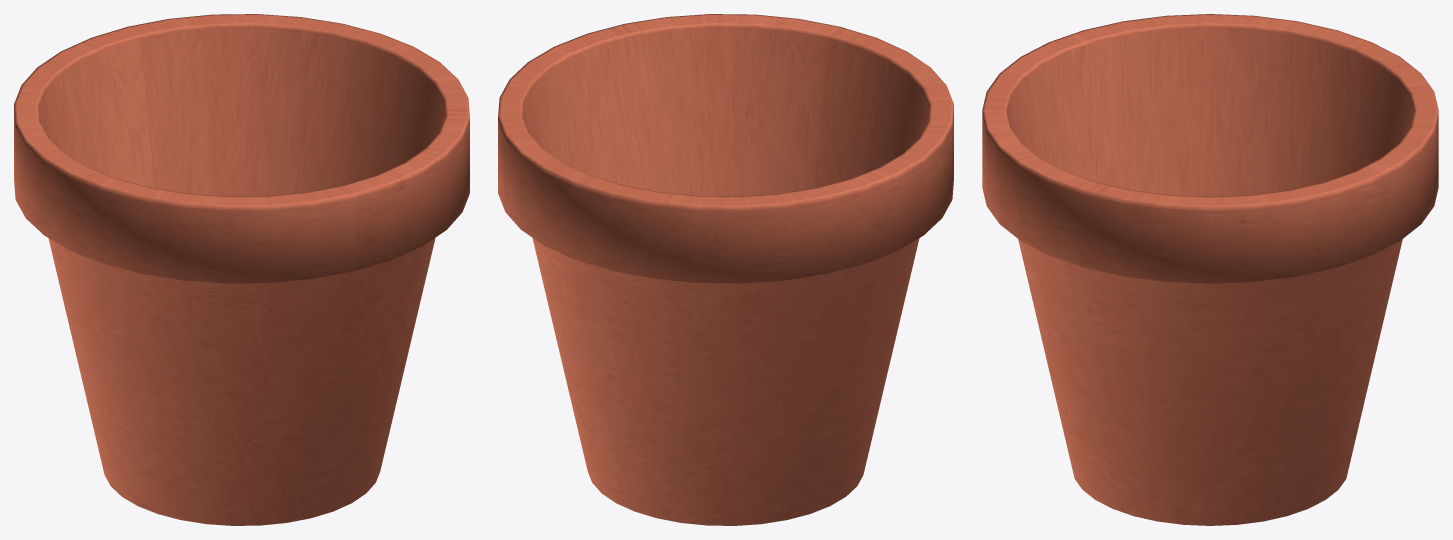
The model's file is Flowerpot.fbx.
3 renders of one model, left to right at view 1: azimuth 30°, elevation 25°; view 2: azimuth 150°, elevation 25°; view 3: azimuth 270°, elevation 25°, orthographic.
Visible parts, largest first — view 1: Flowerpot; view 2: Flowerpot; view 3: Flowerpot.
Boxes of the visible parts, x1,y1,x2,y2 form: Flowerpot: (14,14,469,525); Flowerpot: (498,14,953,525); Flowerpot: (982,14,1438,525).
Size of the model in its own units: 461 by 398 by 461.
